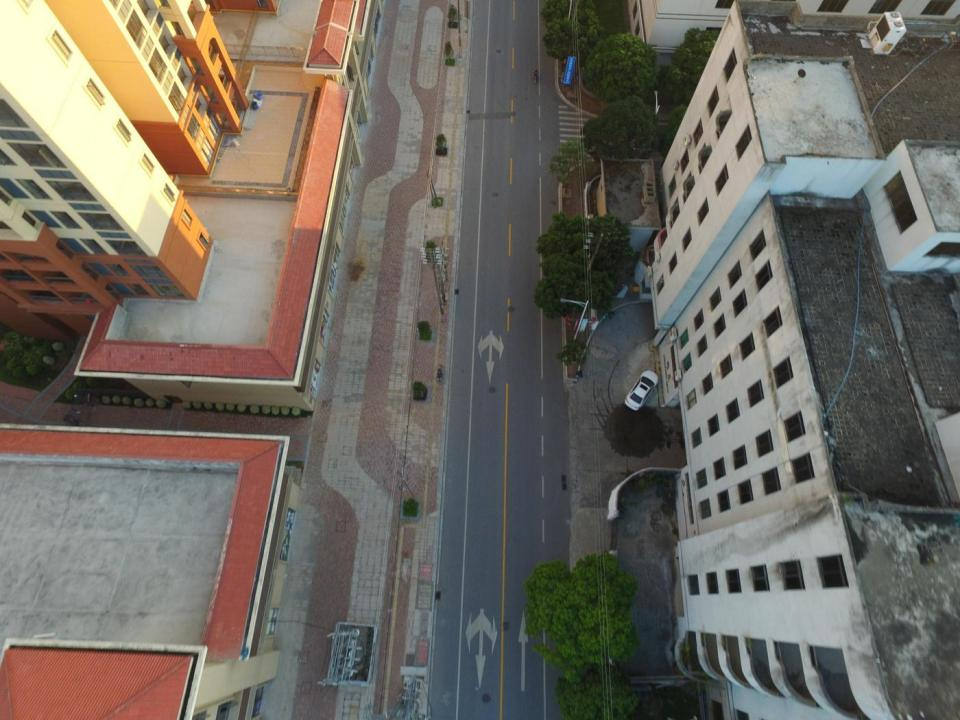car: (624, 369, 659, 412)
